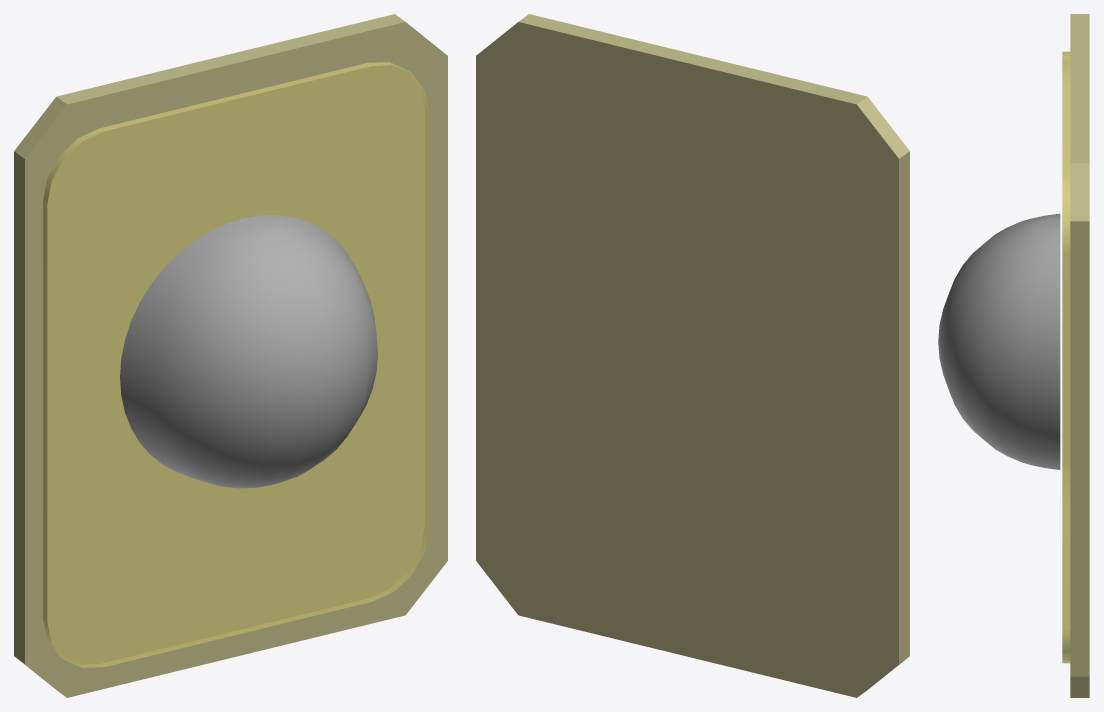
The model's file is cardsTake3.fbx.
The picture shows the model from 3 angles, left to right: view 1: azimuth 30°, elevation 25°; view 2: azimuth 150°, elevation 25°; view 3: azimuth 270°, elevation 25°; orthographic projection. The views are drawn at different scales.
Parts seen in each view (by area): view 1: pCube1, pCube2, pSphere1; view 2: pCube1; view 3: pSphere1, pCube1, pCube2.
Part boxes in pixels (x1,y1,x2,y2): pCube1: [14, 14, 447, 697]; pCube2: [43, 62, 429, 667]; pSphere1: [120, 215, 377, 488]; pCube1: [476, 14, 909, 697]; pSphere1: [938, 213, 1060, 469]; pCube1: [1070, 14, 1089, 697]; pCube2: [1062, 51, 1070, 663].
Bounding box in the file's own units: 3.4 × 4.55 × 1.17.
